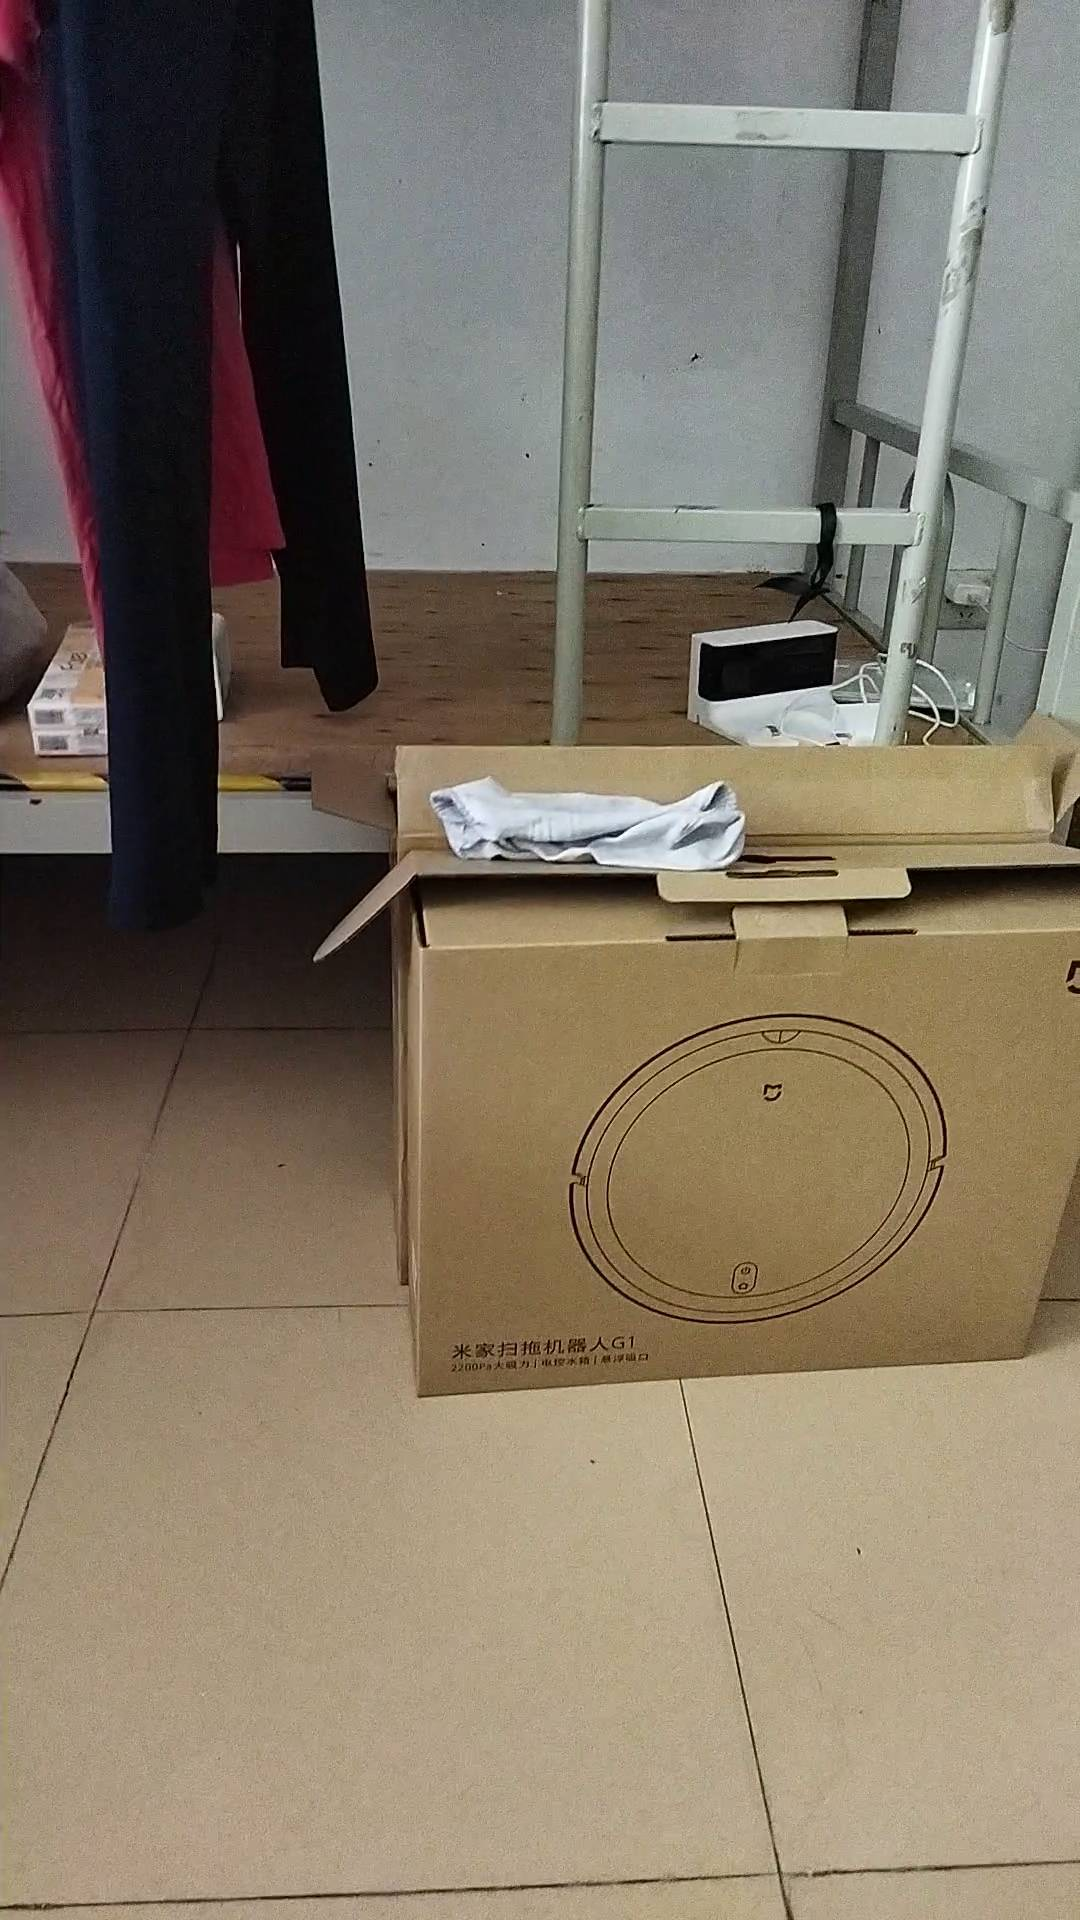recharge seat: (684, 624, 857, 742)
